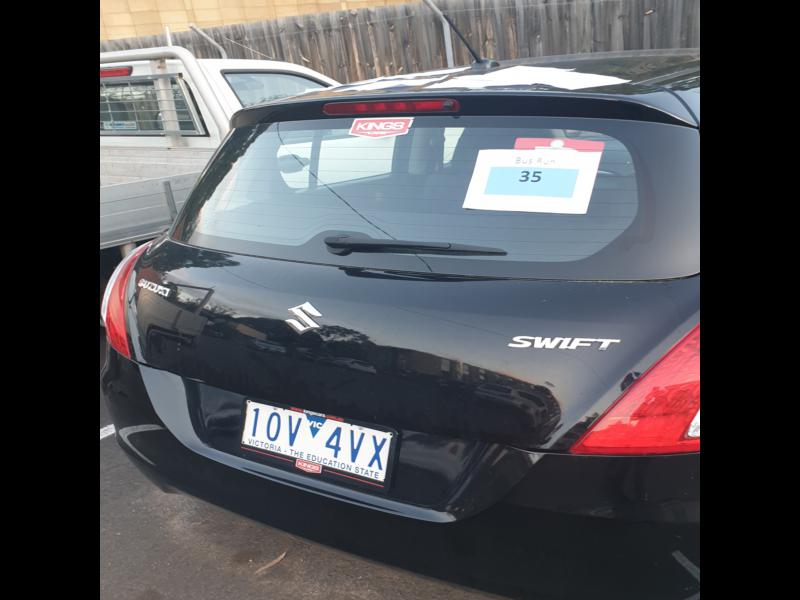BusRun: (483, 165, 583, 197)
PlateNo: (239, 396, 392, 488)
